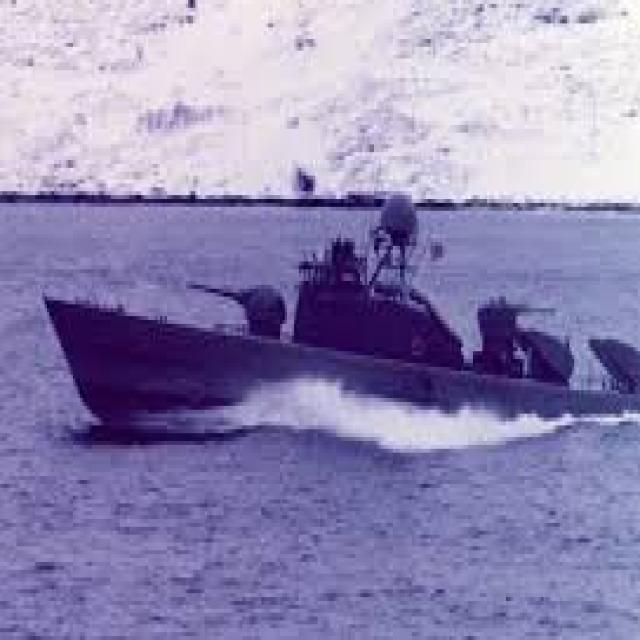houseboat: (42, 168, 640, 452)
